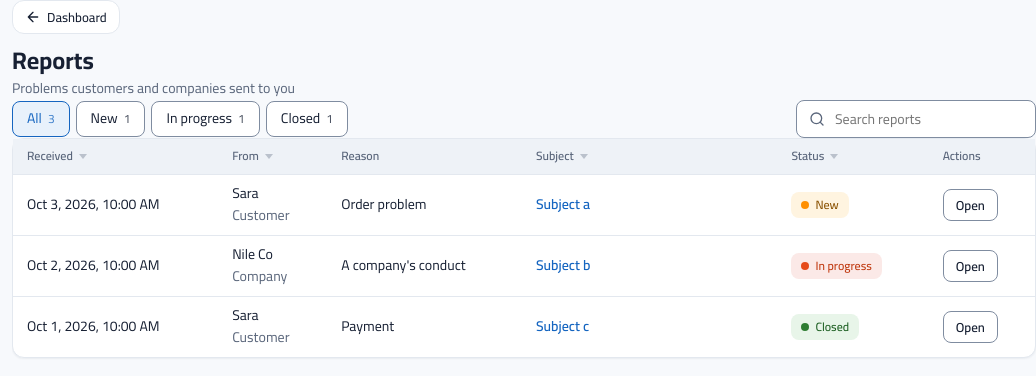
the reports list › finds a report by its text, its sender or the order named
The width and height of the screenshot is (1036, 376).
In the search field: (928, 120) 833,102 -> 1023,138, type "nile"
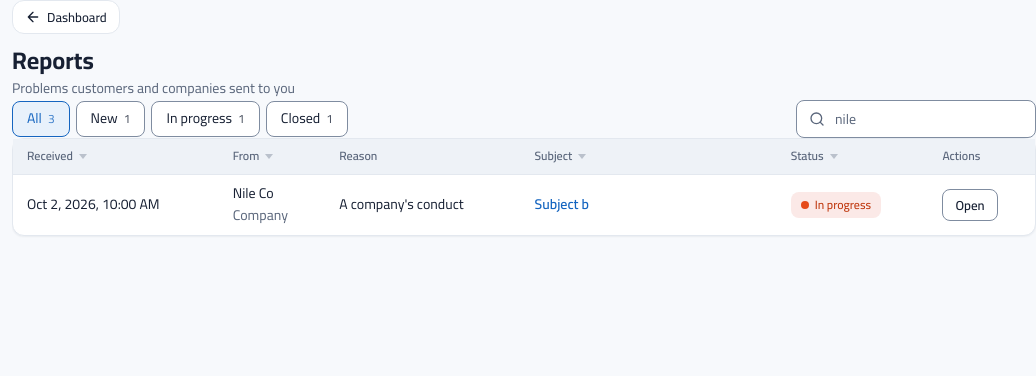
Replace the text in the search field with "ab12": (928, 120) 833,102 -> 1023,138
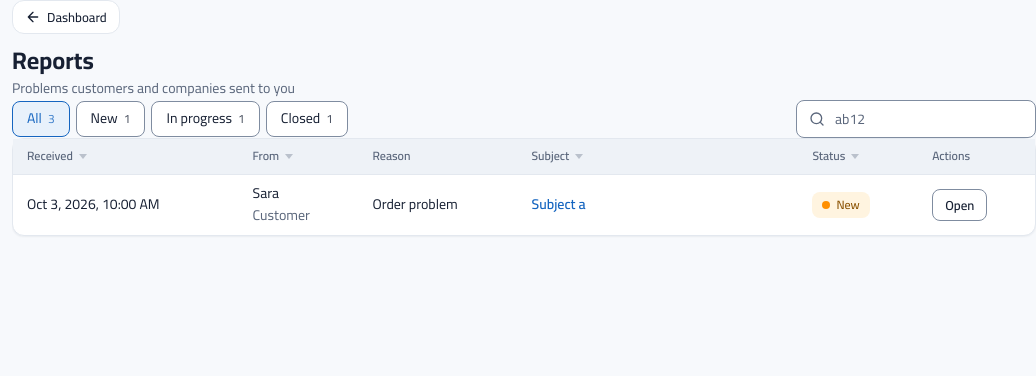
Now the row that starts with "Oct 3, 2026, 10:00 AM" shows "Subject a", box 532,194 -> 586,216
Replace the text in the search field with "zzz": (928, 120) 833,102 -> 1023,138
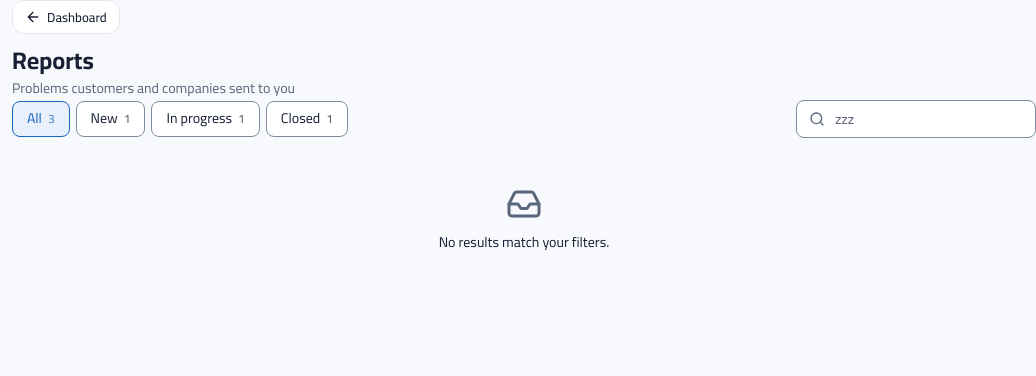
Now the text "No results match your filters." is shown, box 439,232 -> 609,254
